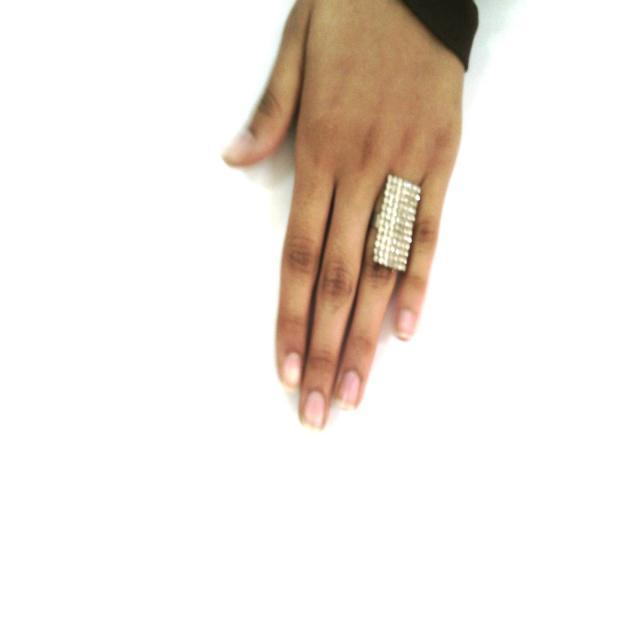Fingernail: (337, 371, 360, 410), (226, 129, 253, 160), (305, 391, 325, 428), (282, 353, 301, 387), (397, 309, 415, 338)
